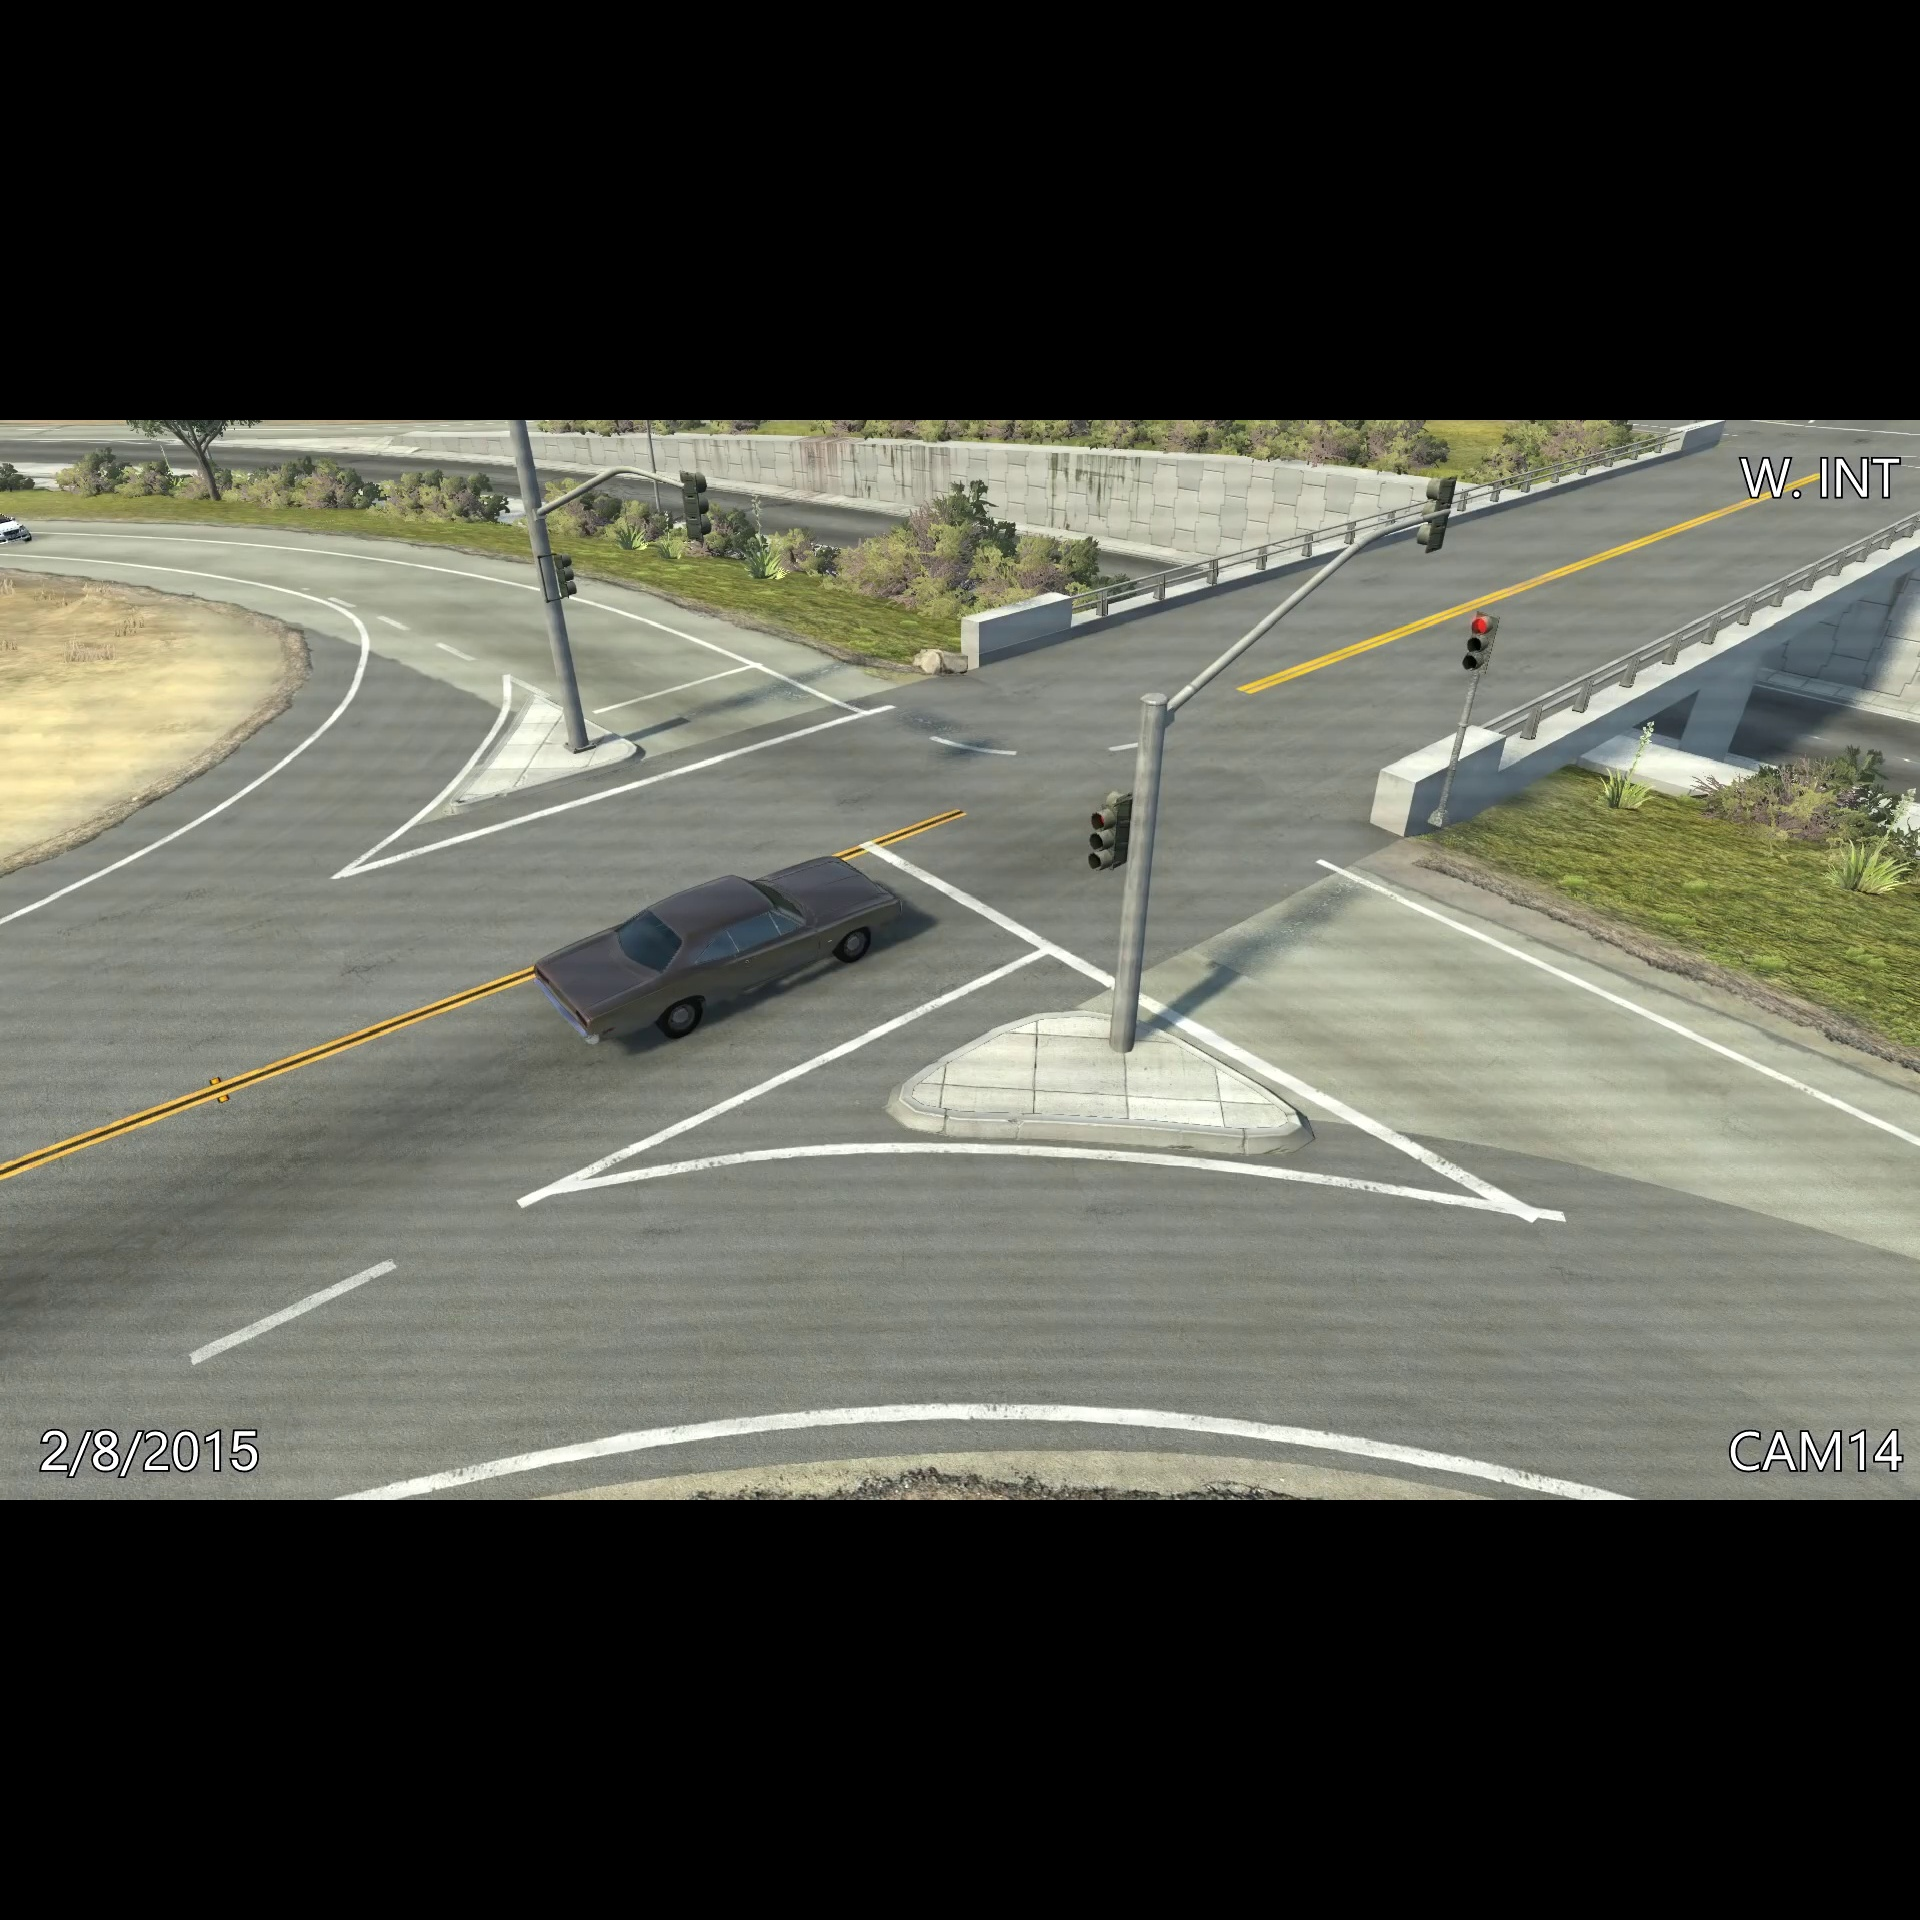vehicle: (526, 847, 923, 1058)
